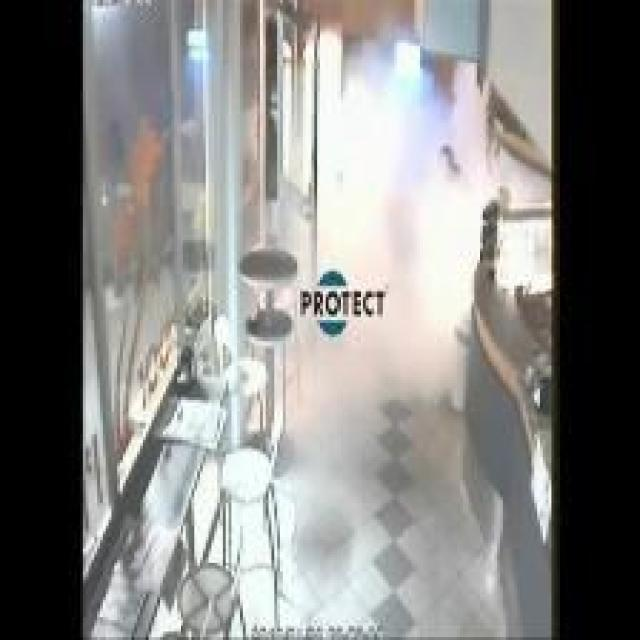fire: (284, 40, 470, 417)
